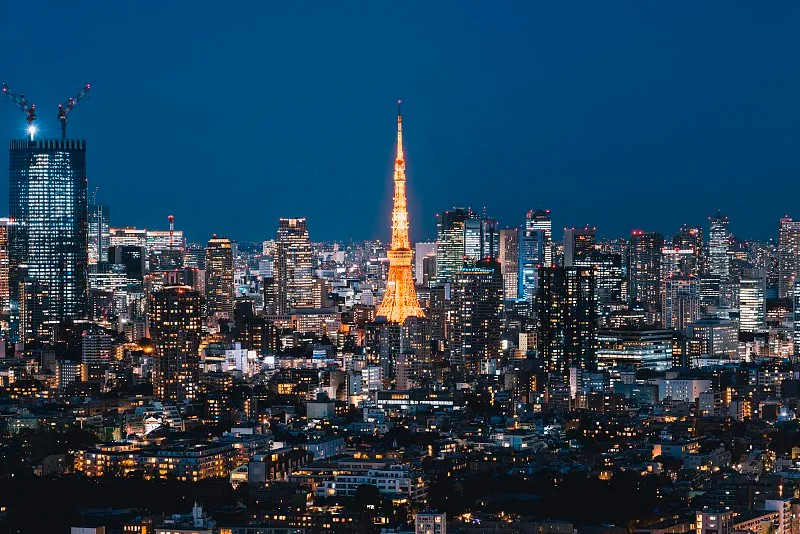Tokyo: (376, 96, 429, 327)
